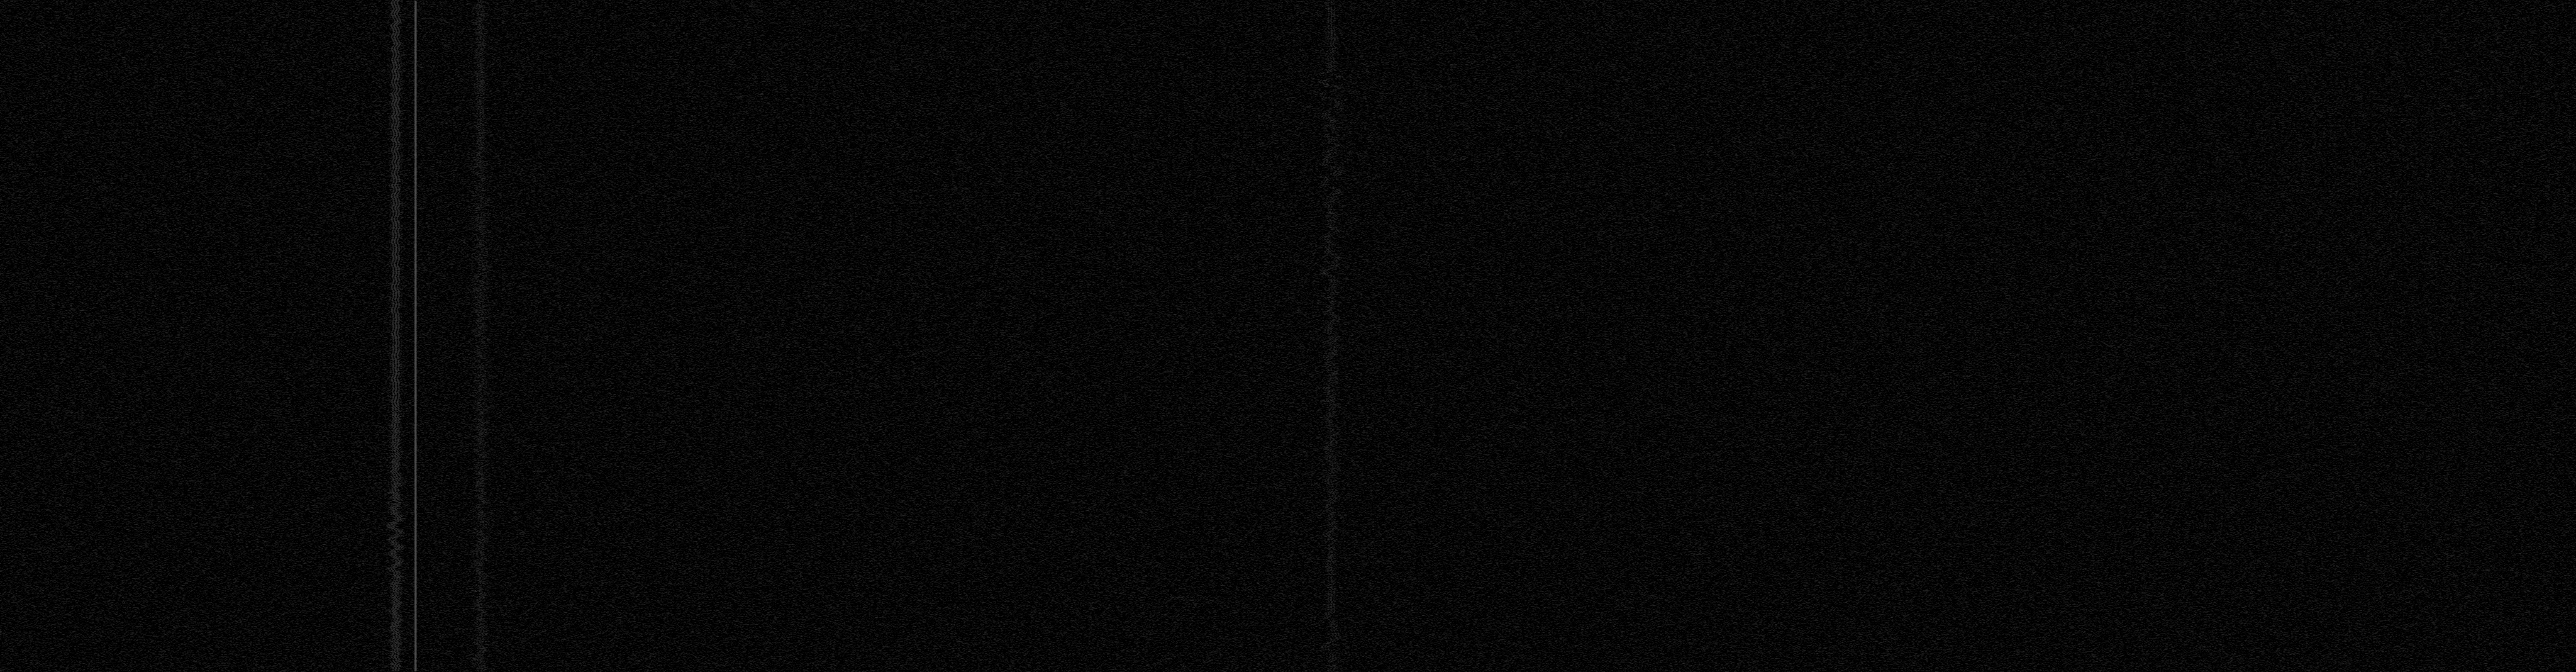wv_am: (414, 0, 417, 672)
wv_wbfm: (381, 0, 411, 672), (467, 0, 494, 672), (1318, 0, 1345, 672)
